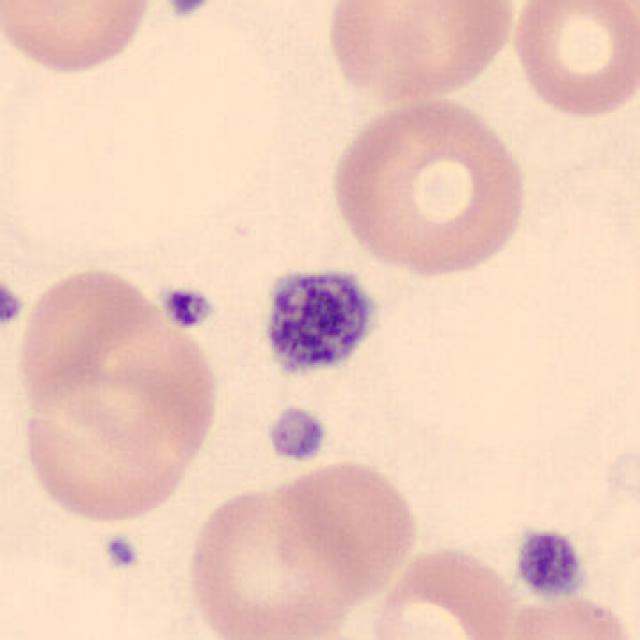Platelets: (258, 262, 382, 382), (508, 525, 590, 603), (263, 404, 331, 465), (156, 282, 217, 332), (101, 532, 142, 573), (0, 278, 27, 332), (162, 0, 217, 19)
RBC: (11, 258, 224, 526), (326, 92, 534, 280), (182, 476, 366, 640), (265, 455, 423, 605), (318, 0, 521, 108), (505, 0, 638, 122), (368, 541, 519, 640), (2, 0, 158, 78), (494, 582, 636, 640), (508, 526, 590, 608)
